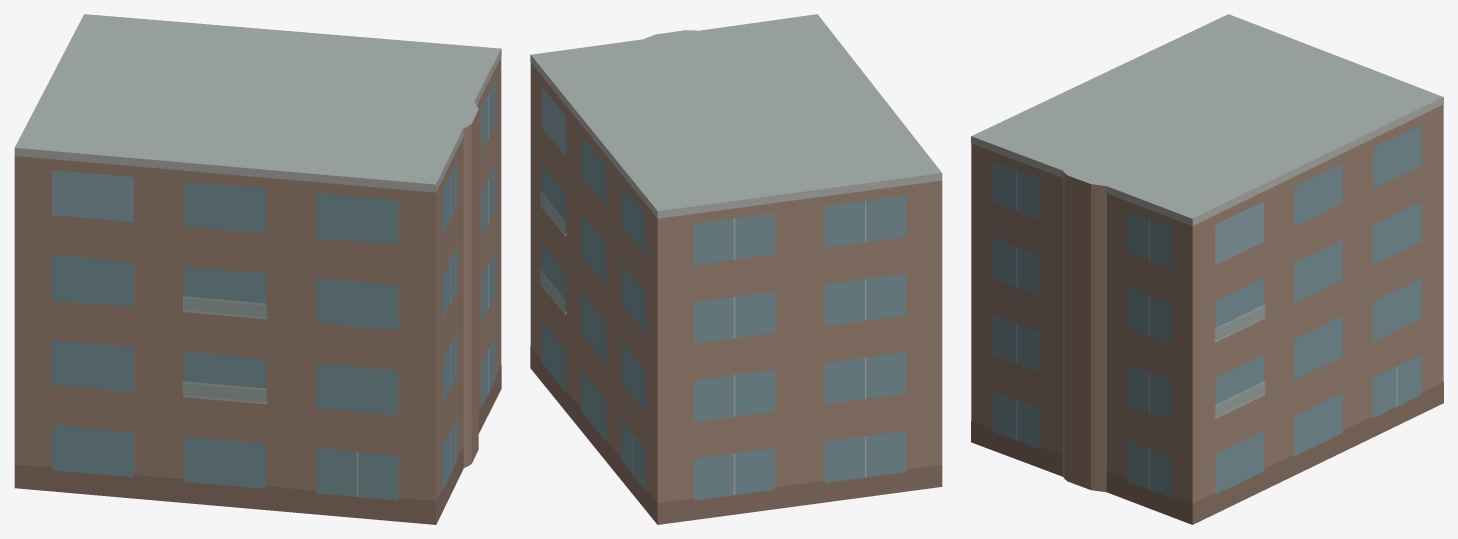
File: survey-upis-32523585.glb
3 views of the same model, side by side, from view 1: azimuth 30°, elevation 25°; view 2: azimuth 150°, elevation 25°; view 3: azimuth 270°, elevation 25° (orthographic). The views are drawn at different scales.
Visible parts, largest first — view 1: survey-upis-32523585.tmp; view 2: survey-upis-32523585.tmp; view 3: survey-upis-32523585.tmp.
Boxes of the visible parts, <box> form: survey-upis-32523585.tmp: <box>14,14,501,524</box>; survey-upis-32523585.tmp: <box>530,14,942,524</box>; survey-upis-32523585.tmp: <box>971,14,1443,524</box>.
Size of the model in its own units: 14.79 by 10.3 by 14.42.
